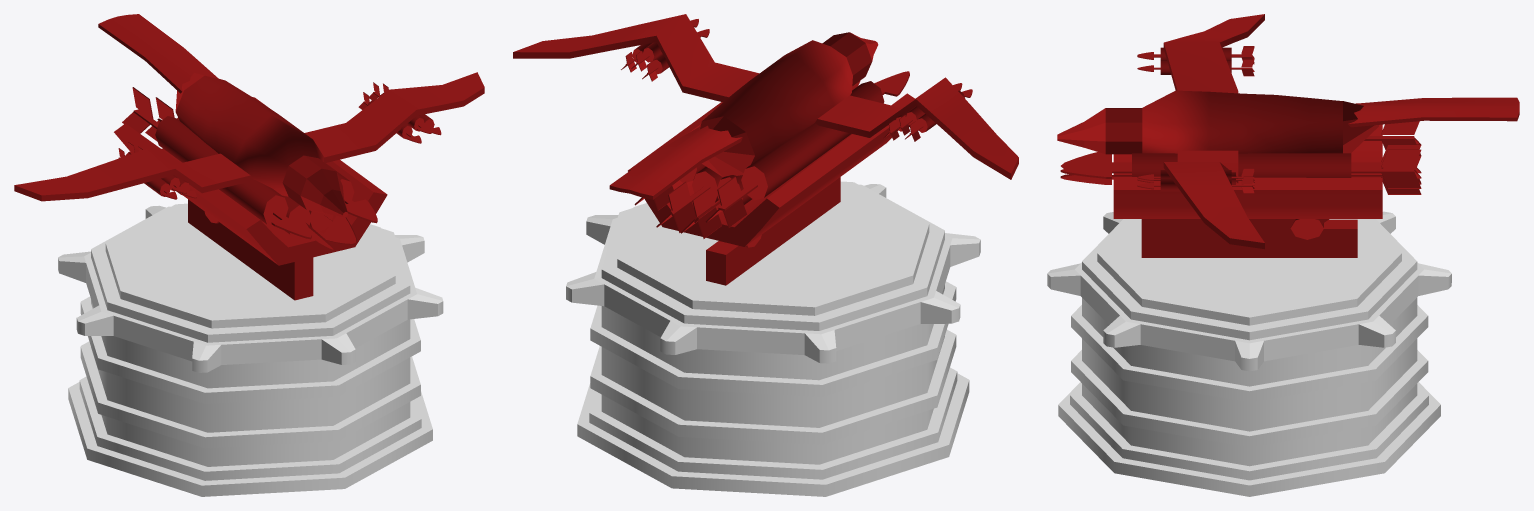
File: darkness_tower_rocket3.FBX
The picture shows the model from 3 angles, left to right: view 1: azimuth 30°, elevation 25°; view 2: azimuth 150°, elevation 25°; view 3: azimuth 270°, elevation 25°; orthographic projection. The views are drawn at different scales.
Parts seen in each view (by area): view 1: platform_rocket3, rocket3; view 2: platform_rocket3, rocket3; view 3: platform_rocket3, rocket3.
Part boxes in pixels (left/top/right/bottom): platform_rocket3: left=58, top=203, right=443, bottom=496; rocket3: left=14, top=14, right=484, bottom=300; platform_rocket3: left=566, top=181, right=980, bottom=496; rocket3: left=513, top=14, right=1018, bottom=285; platform_rocket3: left=1047, top=211, right=1451, bottom=496; rocket3: left=1057, top=14, right=1519, bottom=257.
Size of the model in its own units: 12.07 by 7.99 by 10.51.
